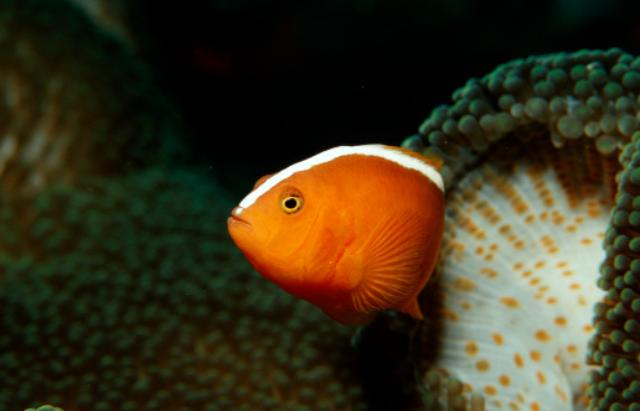Mulut: (213, 193, 270, 252)
Sirip Dada: (328, 192, 434, 324)
